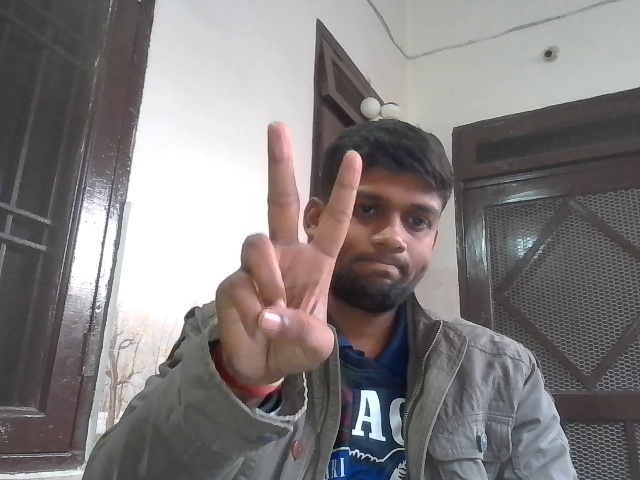Enjoy: (215, 118, 365, 380)
